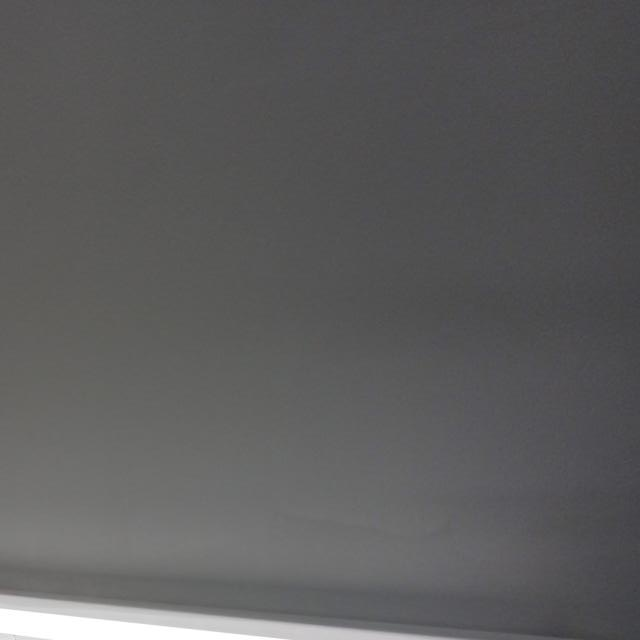fluorescent tube: (0, 533, 625, 640)
